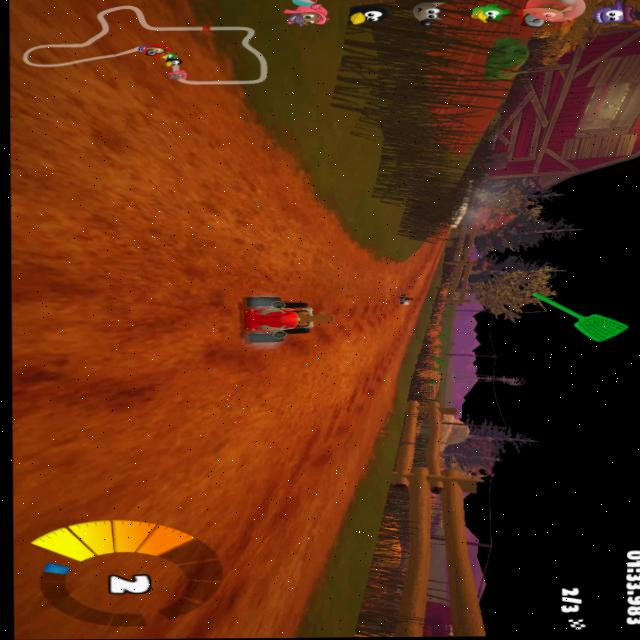enemy_kart: (396, 291, 418, 309)
player_kart: (234, 285, 324, 352)
track: (3, 356, 322, 640), (7, 25, 206, 361), (327, 261, 405, 433), (202, 145, 291, 292), (323, 436, 370, 520), (299, 217, 339, 277), (407, 237, 450, 286)
